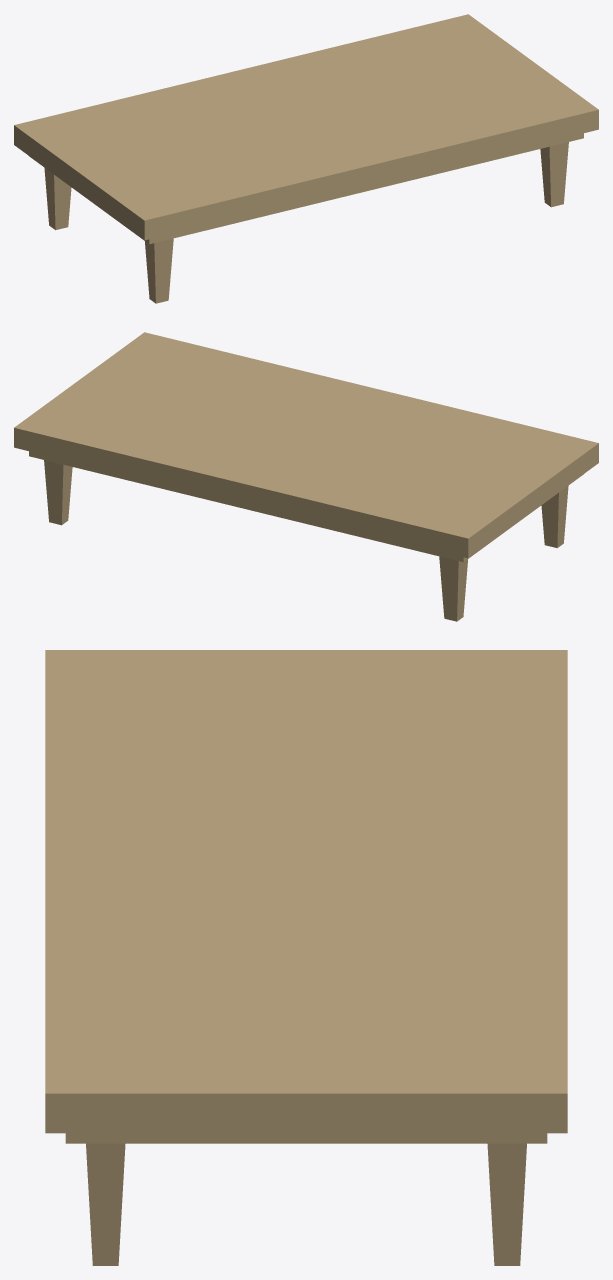
Rendered from Mesa.obj.
The picture shows the model from 3 angles, top to bottom: view 1: azimuth 30°, elevation 25°; view 2: azimuth 150°, elevation 25°; view 3: azimuth 270°, elevation 25°; orthographic projection. The views are drawn at different scales.
Visible parts, largest first — view 1: Mesa_pCube3, Mesa_pCube2, pPyramid2polySurface2, polySurface3pPyramid2, pPyramid2polySurface5; view 2: Mesa_pCube3, Mesa_pCube2, pPyramid2polySurface5, pPyramid2polySurface4, pPyramid2polySurface2; view 3: Mesa_pCube3, Mesa_pCube2, polySurface3pPyramid2, pPyramid2polySurface4.
Boxes of the visible parts, box(x1,y1,x2,y2) form: Mesa_pCube3: box(14, 14, 598, 240); Mesa_pCube2: box(29, 133, 583, 244); pPyramid2polySurface2: box(145, 238, 173, 303); polySurface3pPyramid2: box(540, 142, 568, 207); pPyramid2polySurface5: box(44, 168, 71, 230); Mesa_pCube3: box(14, 332, 598, 558); Mesa_pCube2: box(29, 451, 583, 562); pPyramid2polySurface5: box(439, 556, 467, 621); pPyramid2polySurface4: box(44, 460, 72, 525); pPyramid2polySurface2: box(541, 486, 568, 548); Mesa_pCube3: box(45, 650, 567, 1133); Mesa_pCube2: box(65, 1133, 547, 1143); polySurface3pPyramid2: box(86, 1143, 125, 1265); pPyramid2polySurface4: box(487, 1143, 526, 1265).
Bounding box in the file's own units: 2.88 × 0.589 × 1.43.
1 material, 1 textured.
